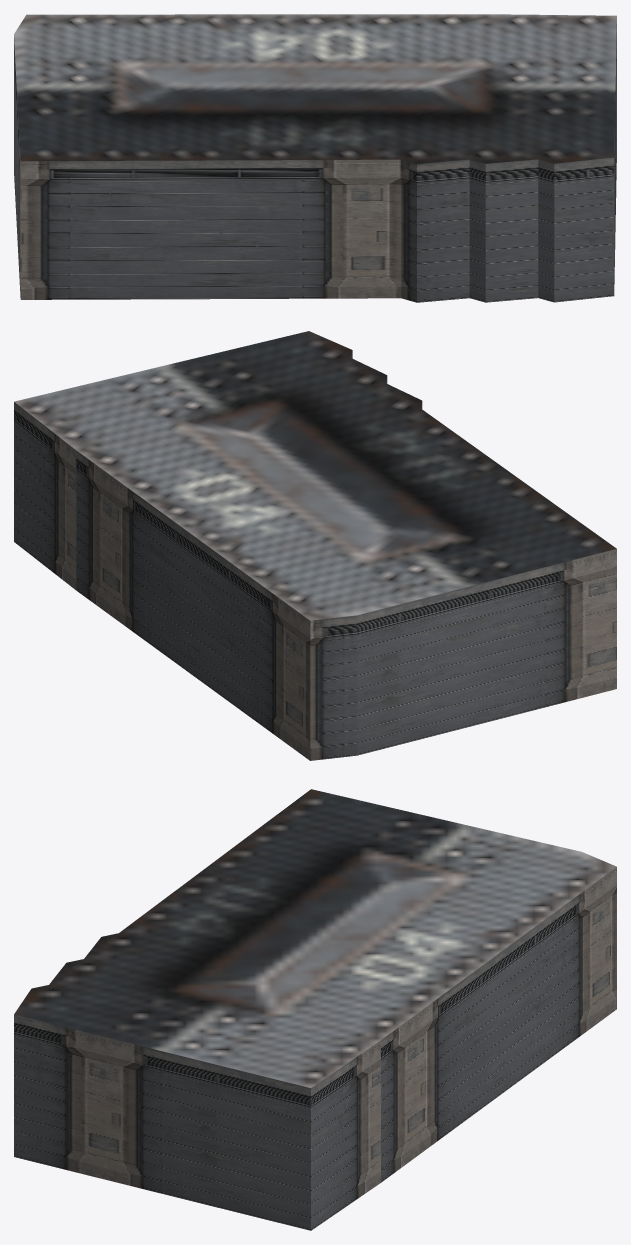
Rendered from hangar_hard_04.glb.
The picture shows the model from 3 angles, top to bottom: view 1: azimuth 30°, elevation 25°; view 2: azimuth 150°, elevation 25°; view 3: azimuth 270°, elevation 25°; orthographic projection. The views are drawn at different scales.
Visible parts, largest first — view 1: buildings/saxarba/hangar_hard/hangar_hard_04; view 2: buildings/saxarba/hangar_hard/hangar_hard_04; view 3: buildings/saxarba/hangar_hard/hangar_hard_04.
Part boxes in pixels (bbox=[...]): buildings/saxarba/hangar_hard/hangar_hard_04: bbox=[14, 14, 616, 302]; buildings/saxarba/hangar_hard/hangar_hard_04: bbox=[14, 331, 616, 760]; buildings/saxarba/hangar_hard/hangar_hard_04: bbox=[14, 789, 616, 1230].
Bounding box in the file's own units: 81 × 18 × 69.
